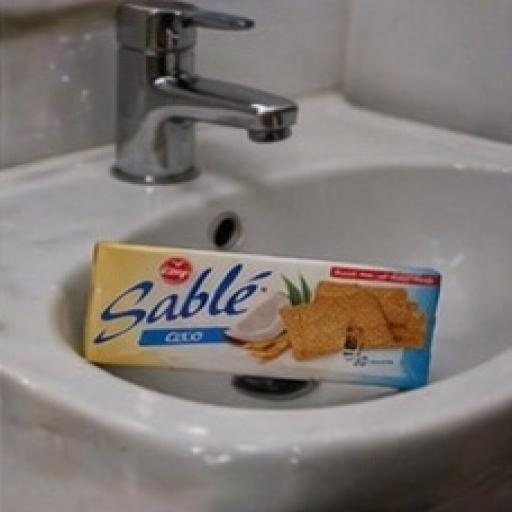sabl: (38, 183, 512, 444)
